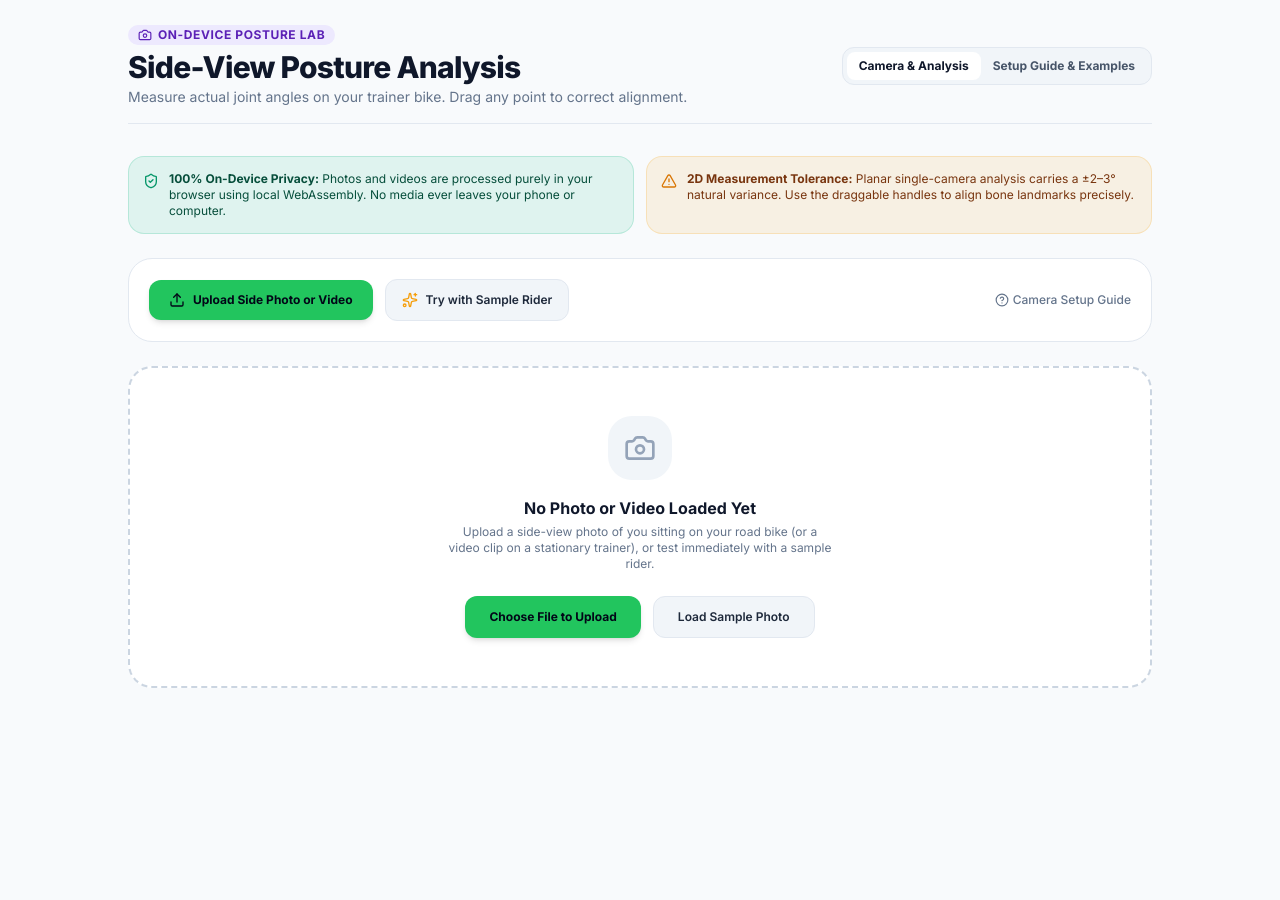
Test: PosturePage › loads sample rider photo and displays angle cards and advice
Note: Click "Try with Sample Rider"
Click the button "Try with Sample Rider" at (477, 300), box [385,279,569,321]
(page scrolled)
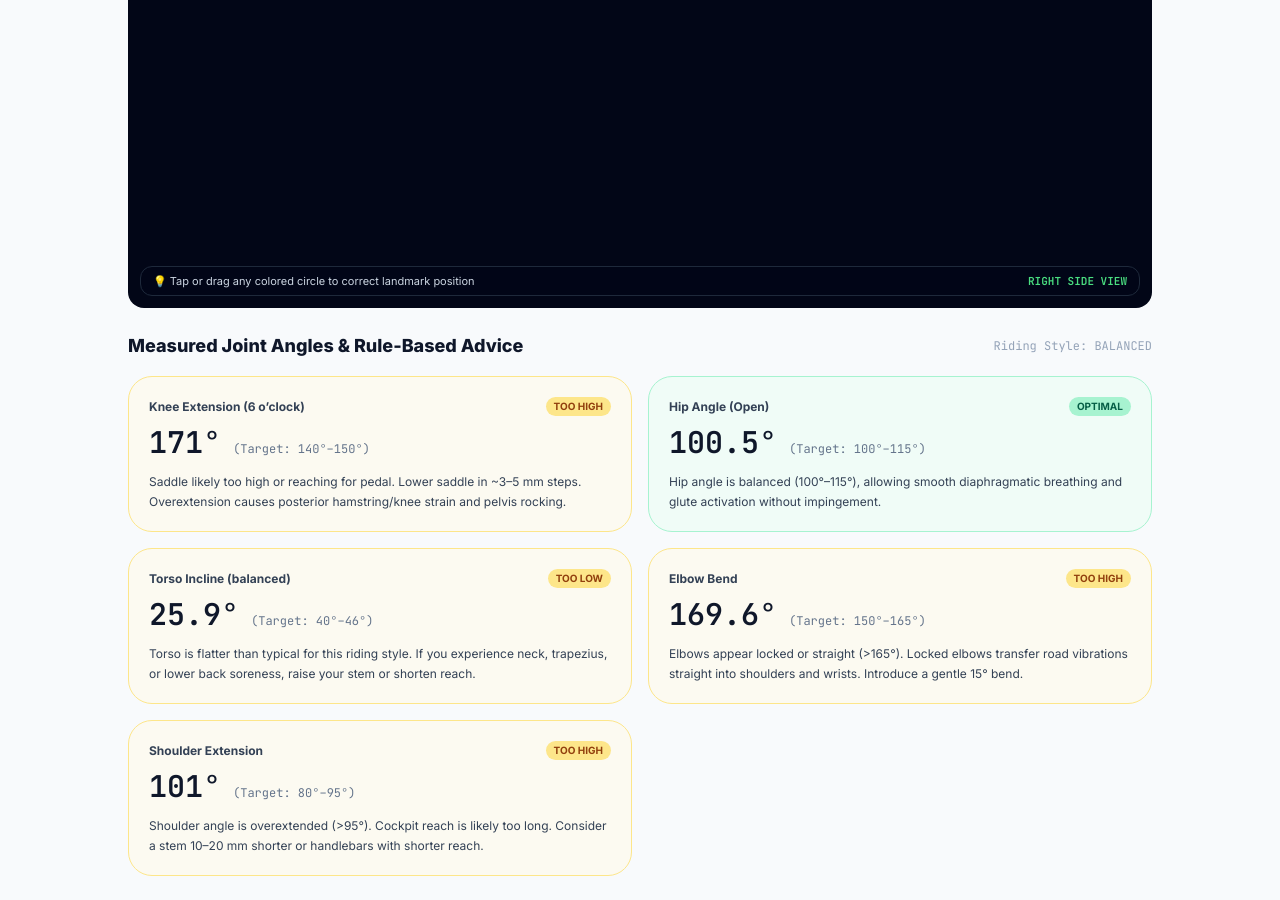
Expected: the heading "Measured Joint Angles & Rule-Based Advice" is shown, [128,332,523,360]
Expected: the text "Knee Extension (6 o’clock)" is shown, [149,398,305,414]
Expected: the text "Elbow Bend" is shown, [669,570,738,586]
